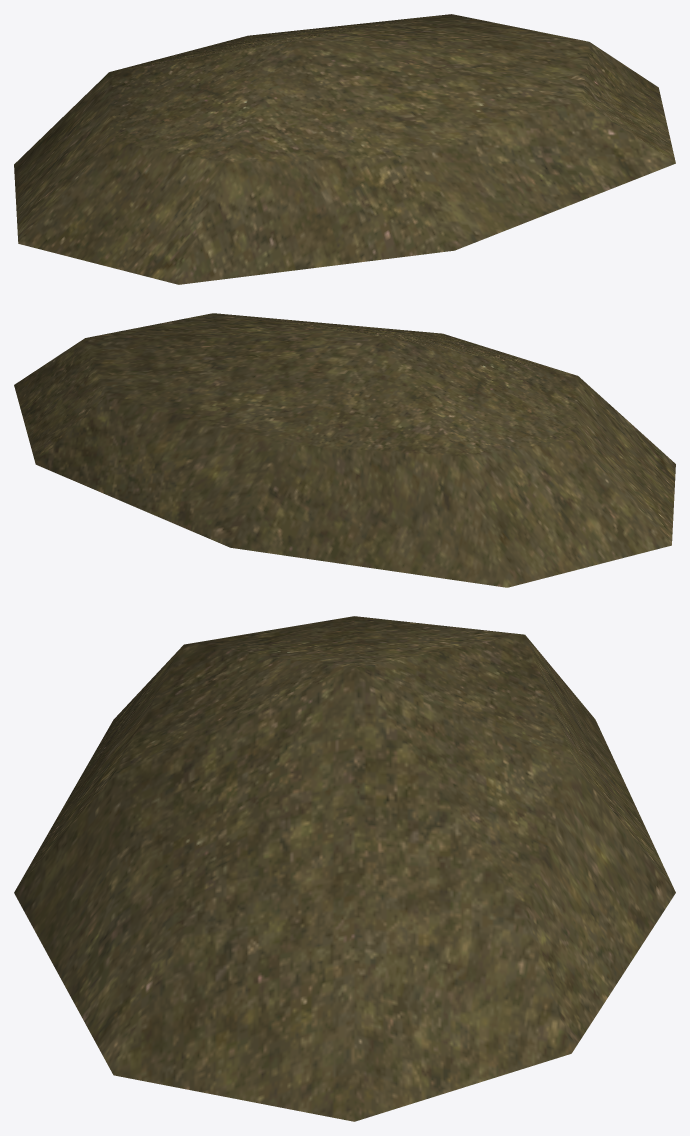
File: dirtmound01.glb
The picture shows the model from 3 angles, top to bottom: view 1: azimuth 30°, elevation 25°; view 2: azimuth 150°, elevation 25°; view 3: azimuth 270°, elevation 25°; orthographic projection. The views are drawn at different scales.
Size of the model in its own units: 3.39 by 0.6774 by 2.07.
1 material, 1 textured.
